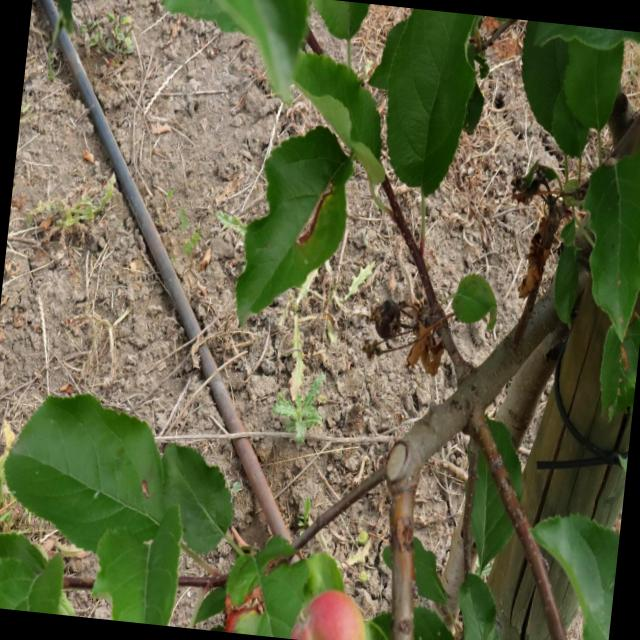-FireBlight-: (366, 302, 446, 372), (522, 210, 550, 302)
